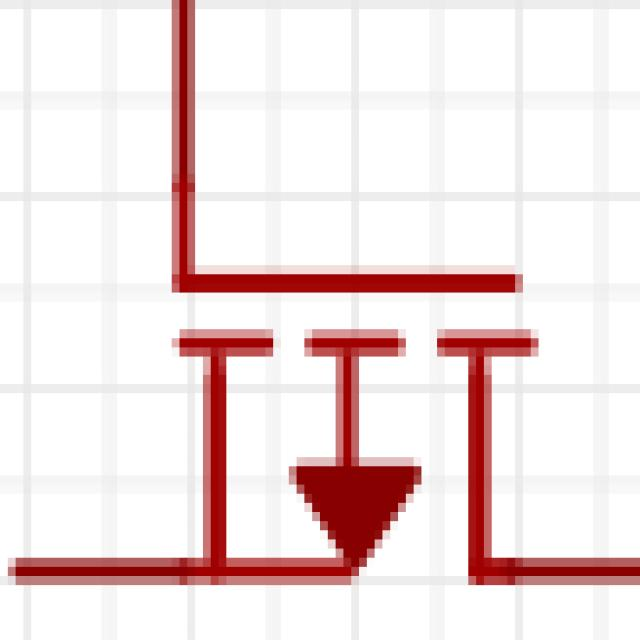pmos: (16, 14, 634, 640)
